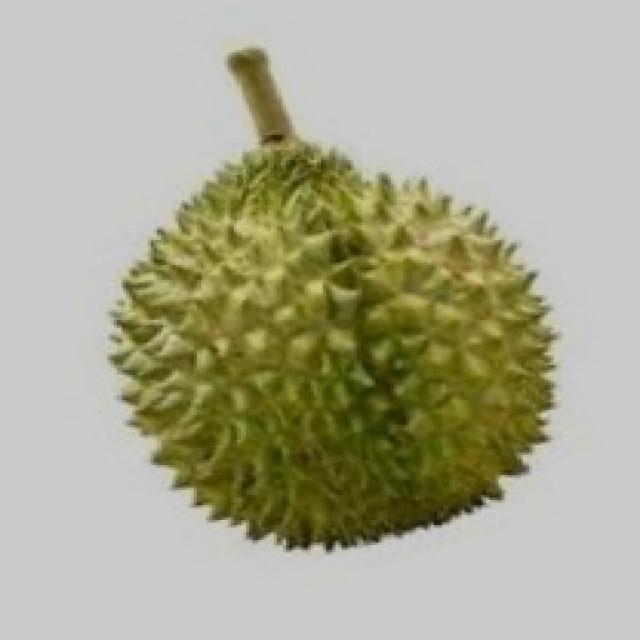fruit: (243, 168, 603, 598), (62, 185, 424, 603)
